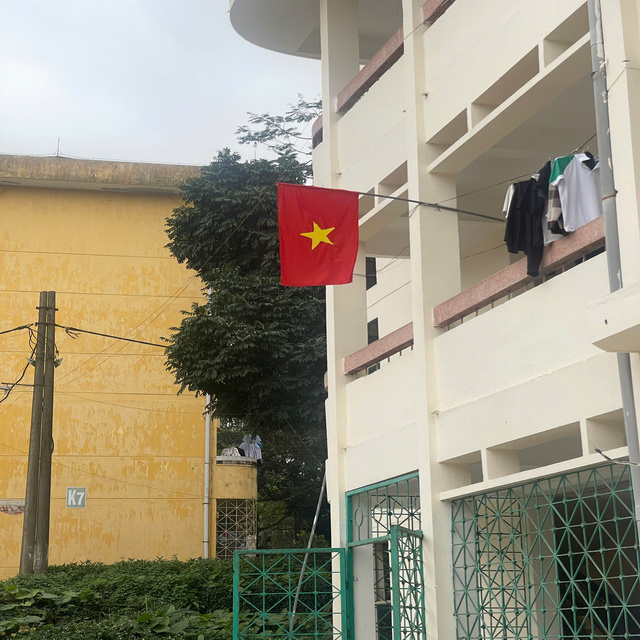laco: (265, 174, 369, 297)
